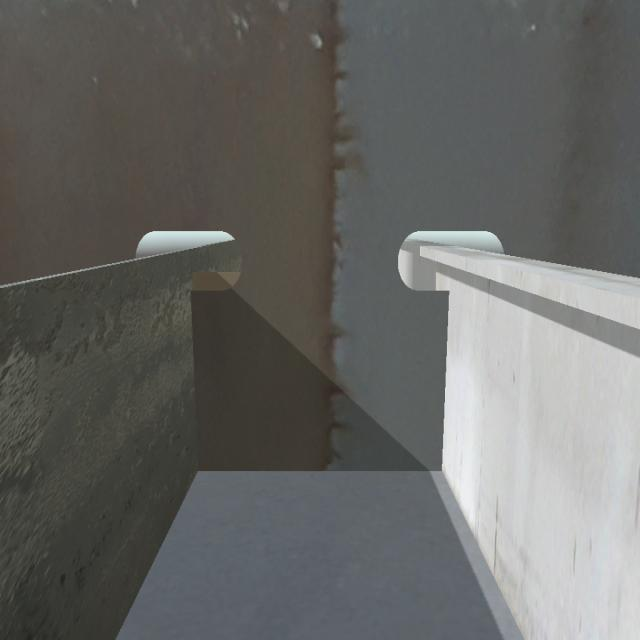fillet_yong_jeop_jang: (192, 454, 448, 482)
longi_yong_jeop_jang: (430, 285, 459, 474), (188, 272, 207, 485)
plate_behind: (197, 271, 238, 287)
